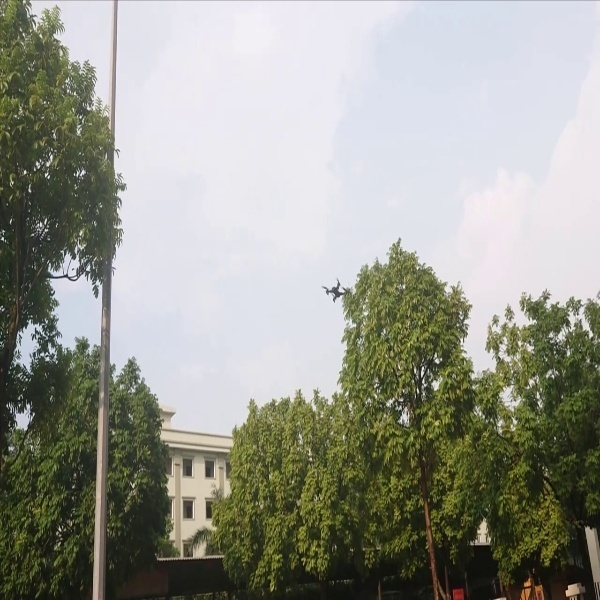drone: (317, 276, 351, 304)
